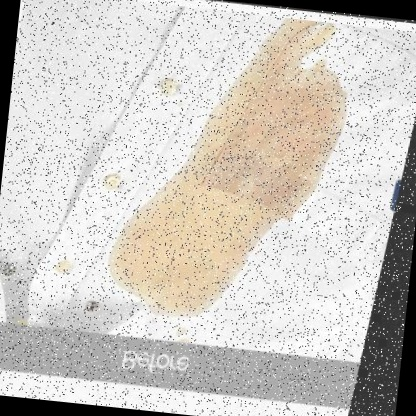coffee: (121, 191, 249, 308), (232, 71, 328, 180)
